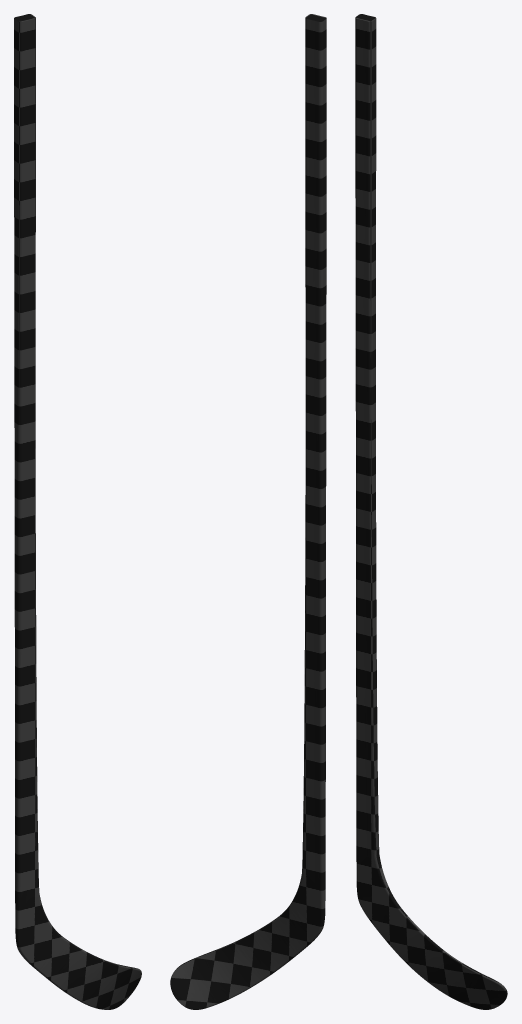
File: P10-SBT.glb
The picture shows the model from 3 angles, left to right: view 1: azimuth 30°, elevation 25°; view 2: azimuth 150°, elevation 25°; view 3: azimuth 330°, elevation 25°; orthographic projection. The views are drawn at different scales.
Visible parts, largest first — view 1: geometry_0; view 2: geometry_0; view 3: geometry_0.
Boxes of the visible parts, left/top/right/bottom form: geometry_0: left=14, top=14, right=141, bottom=1009; geometry_0: left=170, top=14, right=326, bottom=1009; geometry_0: left=355, top=14, right=507, bottom=1009.
Size of the model in its own units: 237 by 1650 by 64.88.
1 material, 1 textured.
